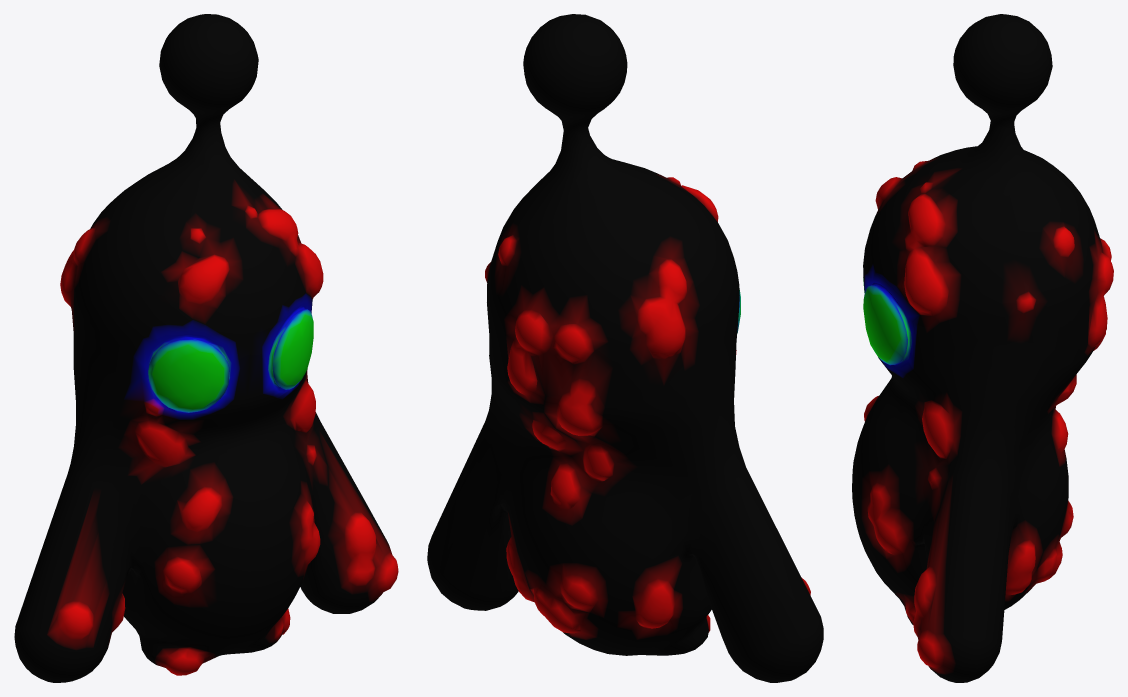
The model's file is soul-baseline-lite.glb.
The picture shows the model from 3 angles, left to right: view 1: azimuth 30°, elevation 25°; view 2: azimuth 150°, elevation 25°; view 3: azimuth 270°, elevation 25°; orthographic projection. The views are drawn at different scales.
Visible parts, largest first — view 1: ariseSoulBaseline; view 2: ariseSoulBaseline; view 3: ariseSoulBaseline.
Boxes of the visible parts, x1=… form: ariseSoulBaseline: x1=14, y1=14, x2=398, y2=682; ariseSoulBaseline: x1=427, y1=14, x2=823, y2=682; ariseSoulBaseline: x1=852, y1=14, x2=1113, y2=682.
Size of the model in its own units: 1.45 by 2.29 by 0.894.
